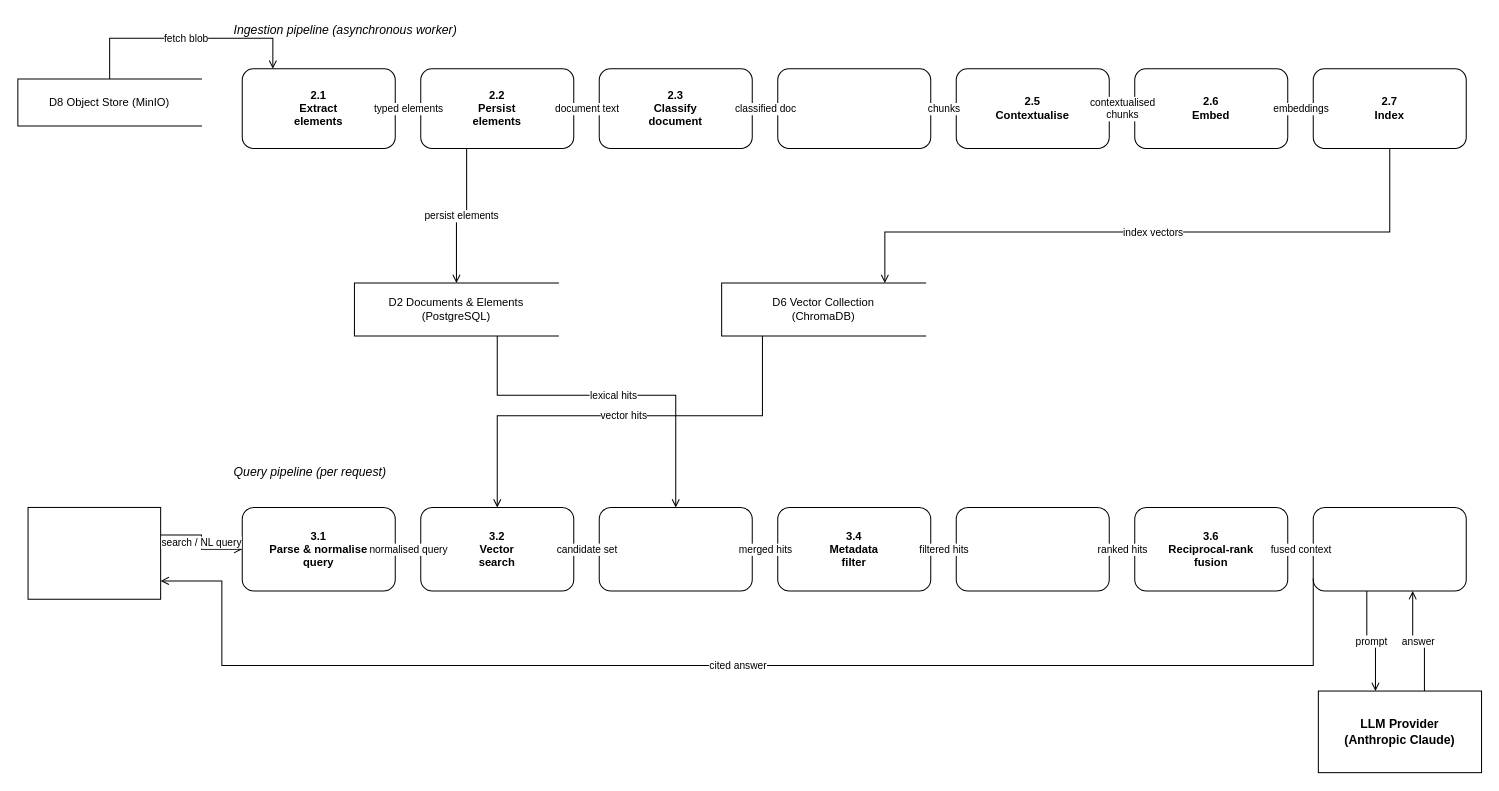
The diagram is 1499 pixels wide and 791 high, and some of its shapes have lost their labels. Here are the shapes that lost their labels. From the top down, the centre of each, then its label:
At (854,108): "2.4 Chunk".
At (94,552): "HR User".
At (675,548): "3.3 Lexical full-text search".
At (1032,548): "3.5 Fuzzy fallback".
At (1389,548): "3.7 Answer generation".
